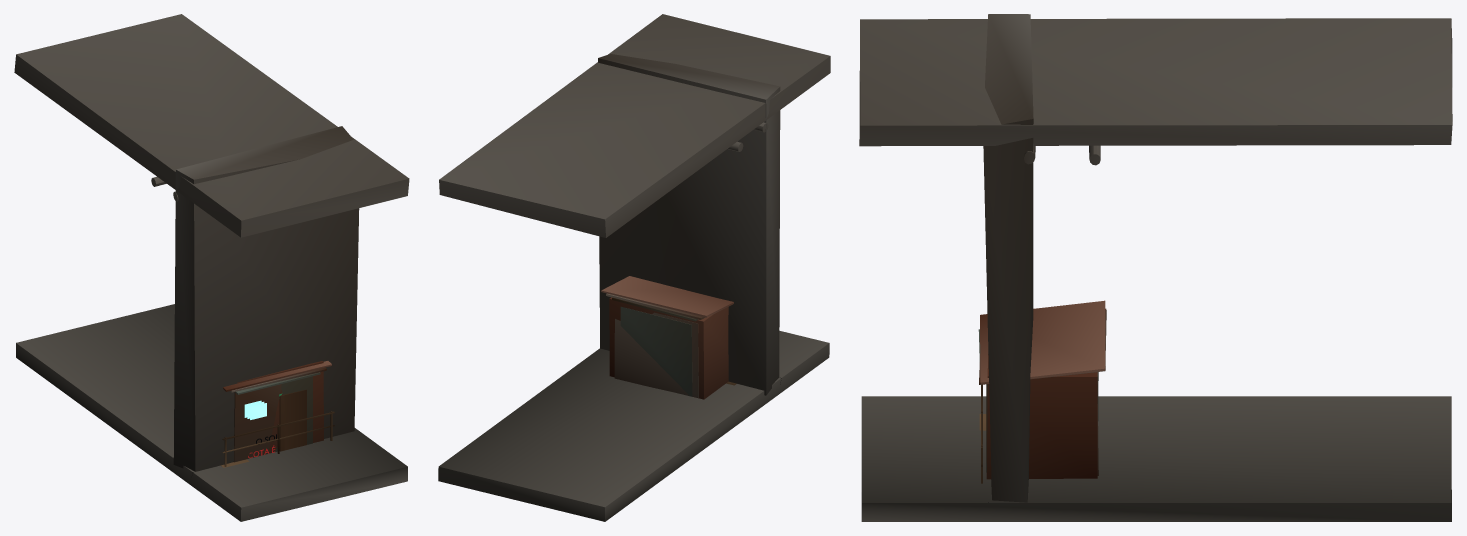
The model's file is gueto.glb.
The picture shows the model from 3 angles, left to right: view 1: azimuth 30°, elevation 25°; view 2: azimuth 150°, elevation 25°; view 3: azimuth 270°, elevation 25°; orthographic projection. The views are drawn at different scales.
Visible parts, largest first — view 1: teto_galeria, parede_rocha, piso, barraco_c, barraco_a, barraco_b, passarela; view 2: teto_galeria, piso, parede_rocha, barraco_c, barraco_b, barraco_a; view 3: teto_galeria, piso, parede_rocha, barraco_c.
Boxes of the visible parts, x1=… form: teto_galeria: x1=14, y1=14, x2=409, y2=237; parede_rocha: x1=173, y1=126, x2=359, y2=471; piso: x1=16, y1=304, x2=407, y2=521; barraco_c: x1=223, y1=361, x2=331, y2=453; barraco_a: x1=230, y1=367, x2=326, y2=462; barraco_b: x1=235, y1=372, x2=320, y2=451; passarela: x1=221, y1=411, x2=334, y2=467; teto_galeria: x1=439, y1=14, x2=830, y2=237; piso: x1=438, y1=330, x2=829, y2=521; parede_rocha: x1=598, y1=54, x2=780, y2=395; barraco_c: x1=601, y1=276, x2=733, y2=399; barraco_b: x1=612, y1=298, x2=697, y2=396; barraco_a: x1=606, y1=293, x2=704, y2=397; teto_galeria: x1=859, y1=18, x2=1452, y2=165; piso: x1=861, y1=396, x2=1451, y2=521; parede_rocha: x1=983, y1=14, x2=1033, y2=502; barraco_c: x1=980, y1=300, x2=1105, y2=479.
Size of the model in its own units: 6.12 by 10.56 by 14.07.
